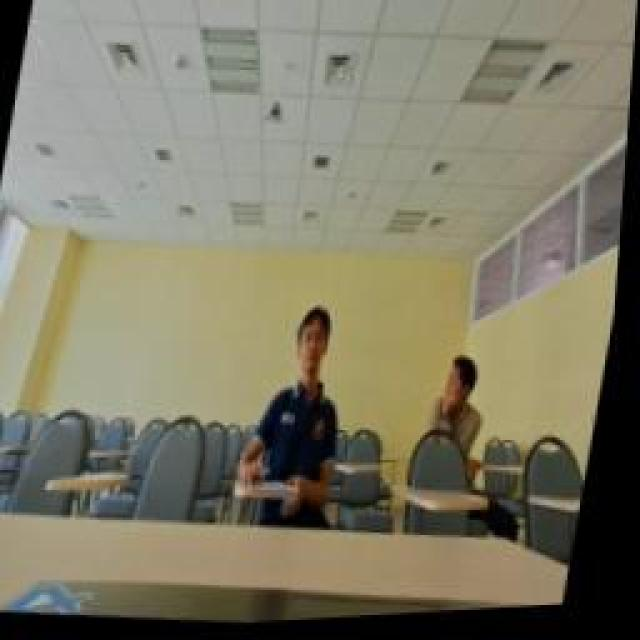study: (232, 292, 370, 538), (412, 340, 510, 505)
